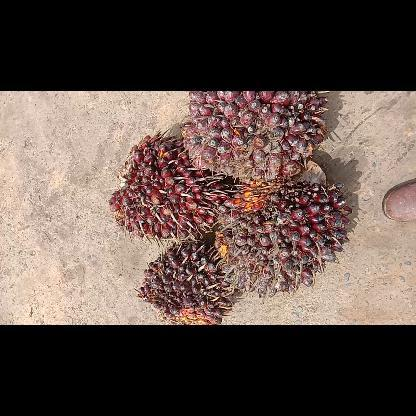Kurang masak: (212, 158, 356, 300), (104, 126, 235, 244)
TBS mentah: (178, 91, 333, 181), (136, 236, 238, 324)
